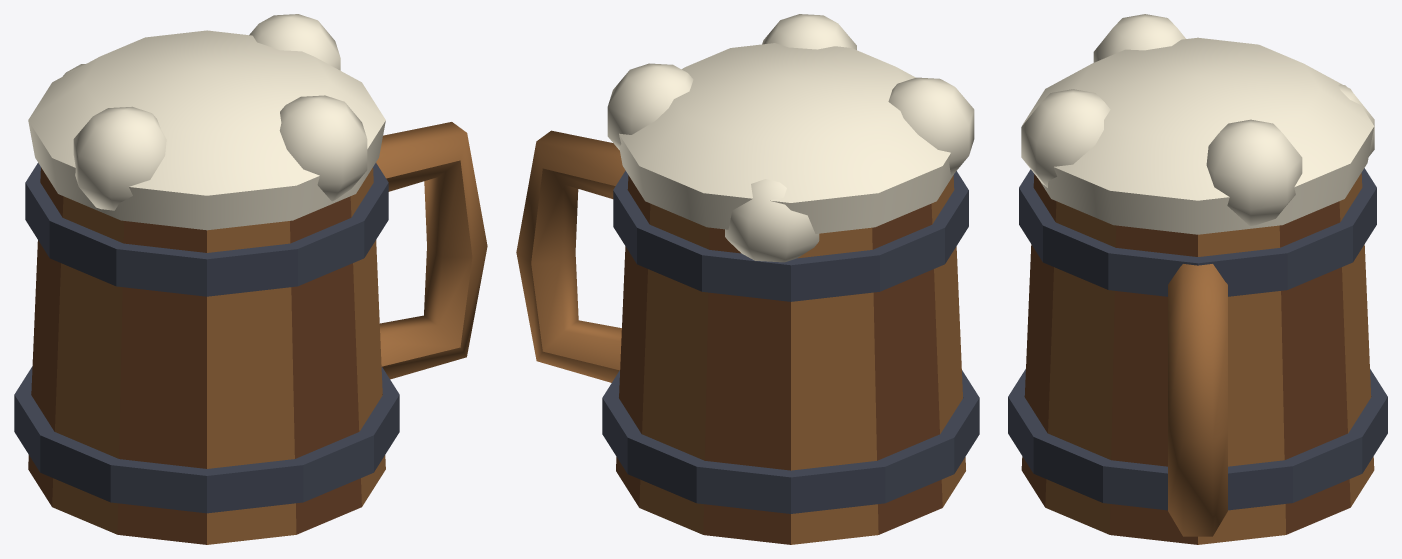
The model's file is mug.glb.
The picture shows the model from 3 angles, left to right: view 1: azimuth 30°, elevation 25°; view 2: azimuth 150°, elevation 25°; view 3: azimuth 270°, elevation 25°; orthographic projection. The views are drawn at different scales.
Visible parts, largest first — view 1: Ale mug, Ale foam, Ale mug bands, Ale mug handle; view 2: Ale mug, Ale foam, Ale mug bands, Ale mug handle; view 3: Ale mug, Ale foam, Ale mug bands, Ale mug handle.
Boxes of the visible parts, box(x1,y1,x2,y2) form: Ale mug: box(28, 167, 385, 544); Ale foam: box(28, 14, 385, 230); Ale mug bands: box(14, 163, 399, 513); Ale mug handle: box(376, 122, 487, 379); Ale mug: box(616, 175, 965, 544); Ale foam: box(607, 14, 974, 262); Ale mug bands: box(602, 170, 979, 513); Ale mug handle: box(516, 130, 625, 382); Ale mug: box(1021, 173, 1374, 544); Ale foam: box(1021, 14, 1374, 234); Ale mug bands: box(1008, 168, 1387, 510); Ale mug handle: box(1168, 264, 1227, 536).
Bounding box in the file's own units: 0.3691 × 0.325 × 0.28.
